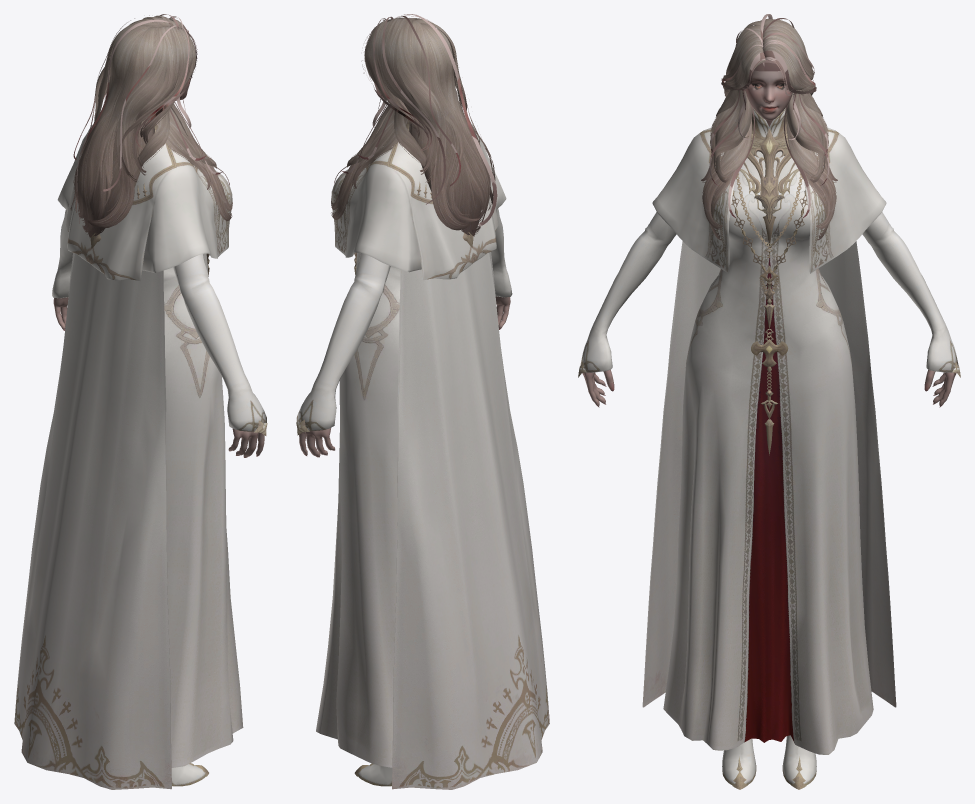
The model's file is Claudia.fbx.
3 renders of one model, left to right at view 1: azimuth 30°, elevation 25°; view 2: azimuth 150°, elevation 25°; view 3: azimuth 270°, elevation 25°, orthographic.
Visible parts, largest first — view 1: Claudia_v2.001; view 2: Claudia_v2.001; view 3: Claudia_v2.001.
Part boxes in pixels (<box>): Claudia_v2.001: <box>14,14,267,789</box>; Claudia_v2.001: <box>296,14,549,789</box>; Claudia_v2.001: <box>578,14,960,789</box>.
Bounding box in the file's own units: 3330 × 12589 × 5820.
